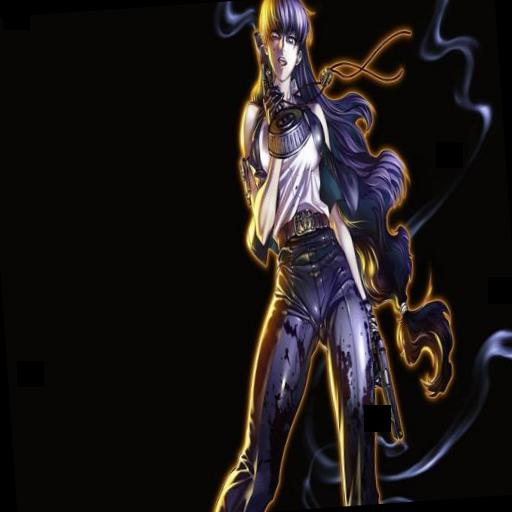Handgun: (366, 334, 404, 442), (251, 27, 282, 114)
